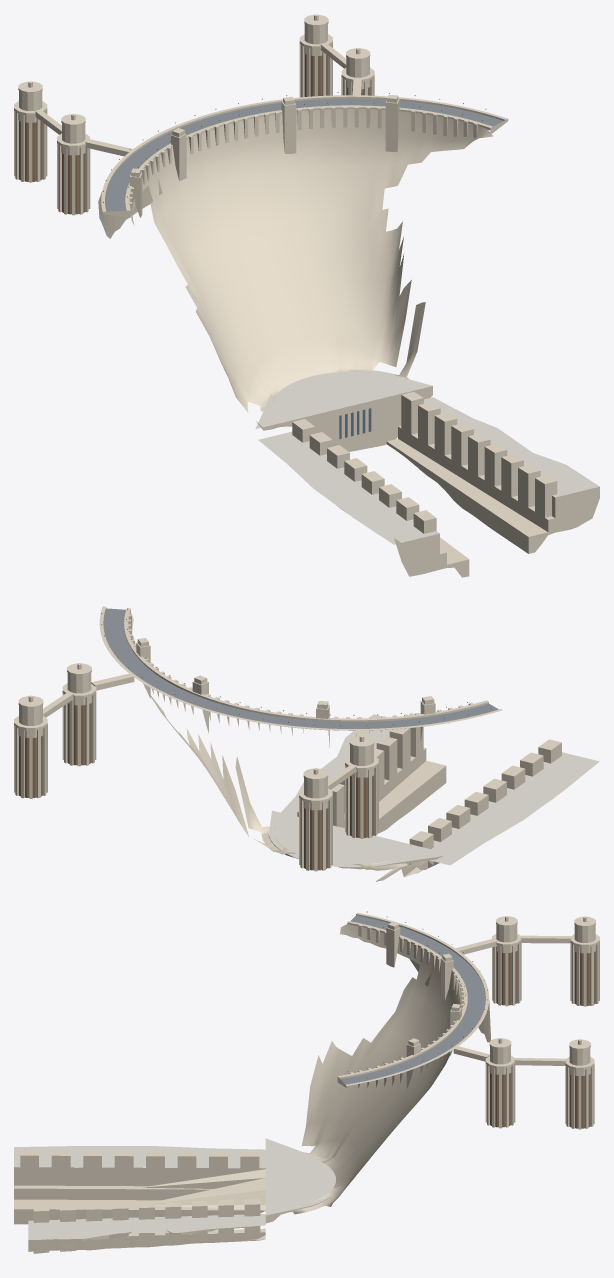
File: hoover-dam.glb
3 renders of one model, top to bottom at view 1: azimuth 30°, elevation 25°; view 2: azimuth 150°, elevation 25°; view 3: azimuth 270°, elevation 25°, orthographic. The views are drawn at different scales.
Parts seen in each view (by area): view 1: Hoover Dam; view 2: Hoover Dam; view 3: Hoover Dam.
Part boxes in pixels (bbox=[...]): Hoover Dam: bbox=[14, 14, 599, 577]; Hoover Dam: bbox=[14, 606, 599, 881]; Hoover Dam: bbox=[14, 911, 599, 1253].
Size of the model in its own units: 289 by 196 by 408.
